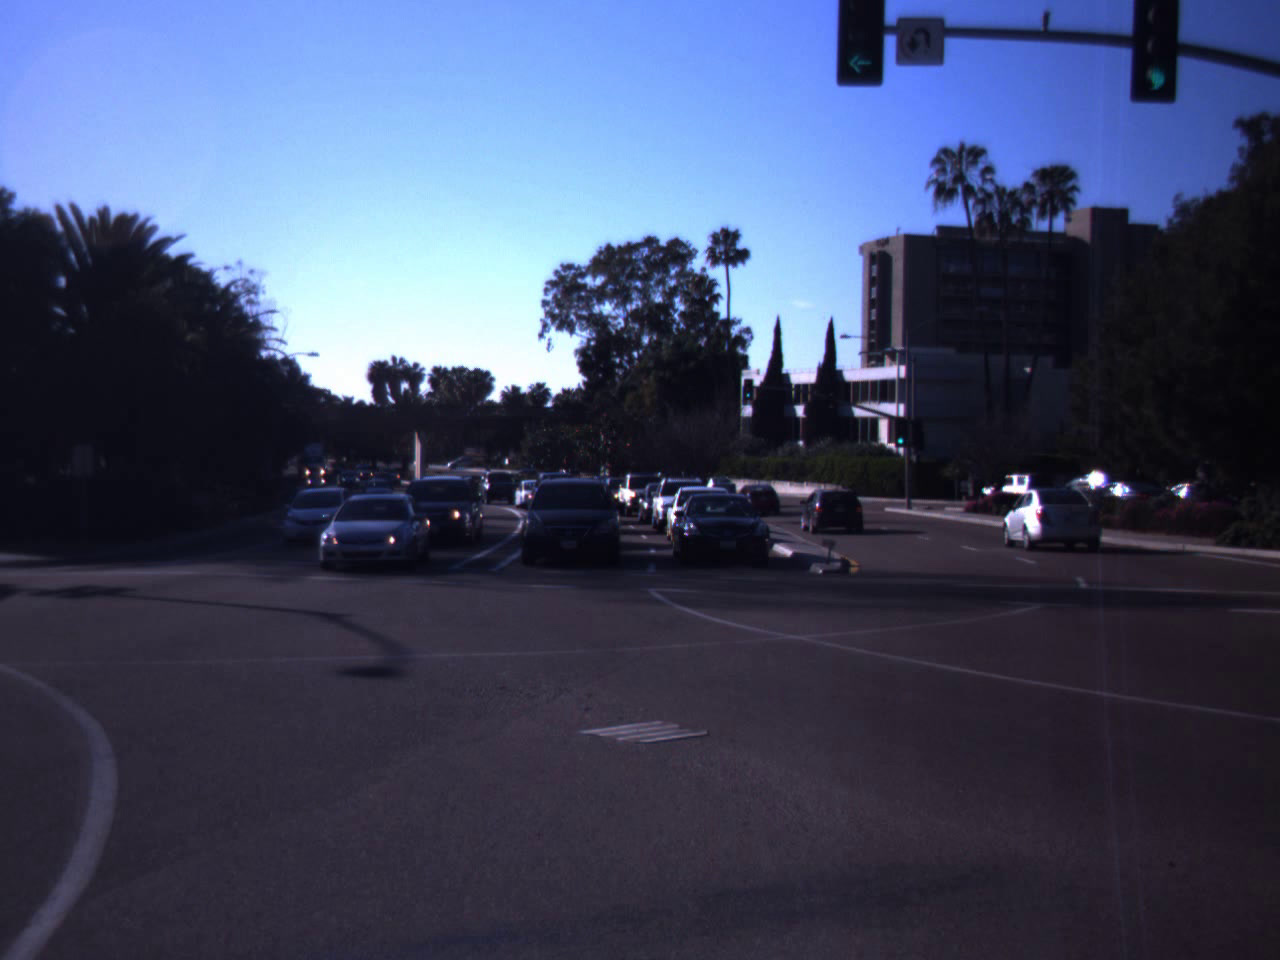go: (1128, 0, 1185, 101), (829, 0, 889, 83)
